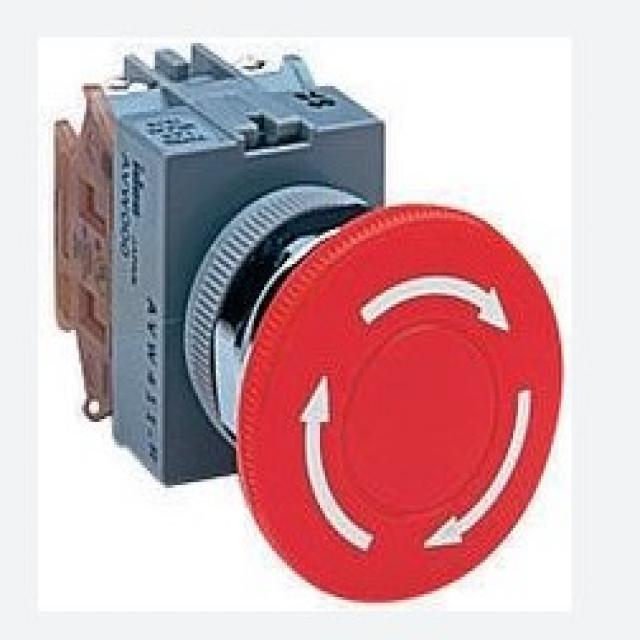safety switch: (183, 184, 566, 604)
